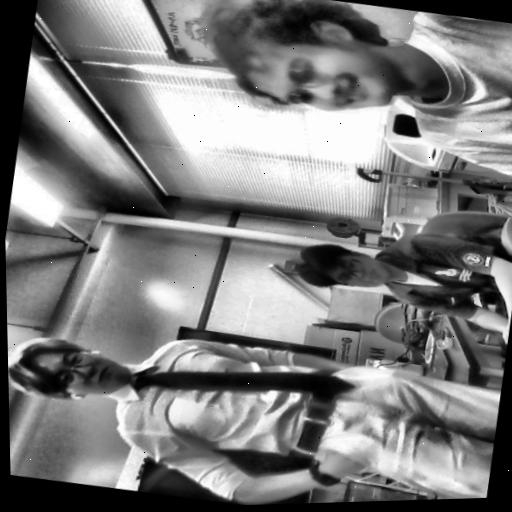Daifuku: (191, 0, 423, 131)
Not Daifuku: (7, 330, 133, 411), (294, 240, 393, 294)
